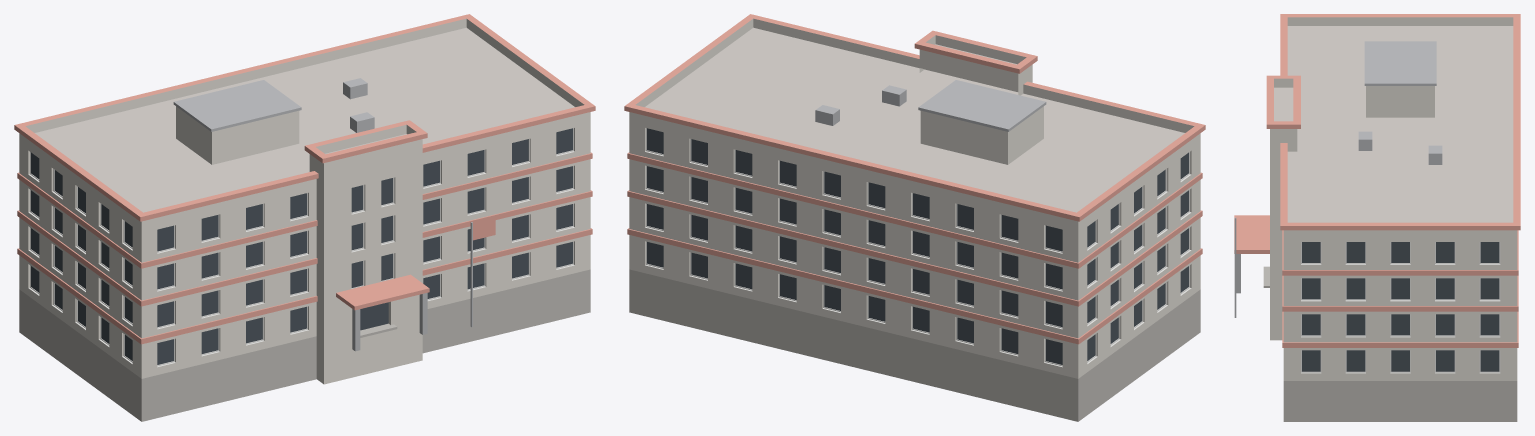
Rendered from public_flat_4_l.glb.
The picture shows the model from 3 angles, left to right: view 1: azimuth 30°, elevation 25°; view 2: azimuth 150°, elevation 25°; view 3: azimuth 270°, elevation 25°; orthographic projection. The views are drawn at different scales.
Visible parts, largest first — view 1: public_flat_4_l; view 2: public_flat_4_l; view 3: public_flat_4_l.
Boxes of the visible parts, x1,y1,x2,y2 form: public_flat_4_l: (14,14,595,421); public_flat_4_l: (624,14,1205,421); public_flat_4_l: (1234,14,1520,421).
Size of the model in its own units: 36.5 by 17.95 by 20.85.
